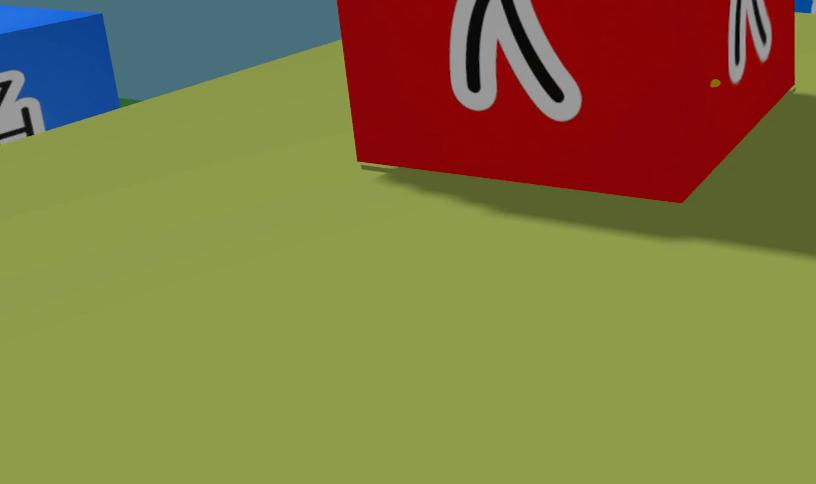KFS_FAKE: (338, 0, 795, 201), (449, 0, 580, 120), (728, 0, 771, 83)
KFS_REAL: (0, 5, 118, 143), (0, 70, 43, 143), (794, 0, 816, 12), (810, 0, 816, 13)
